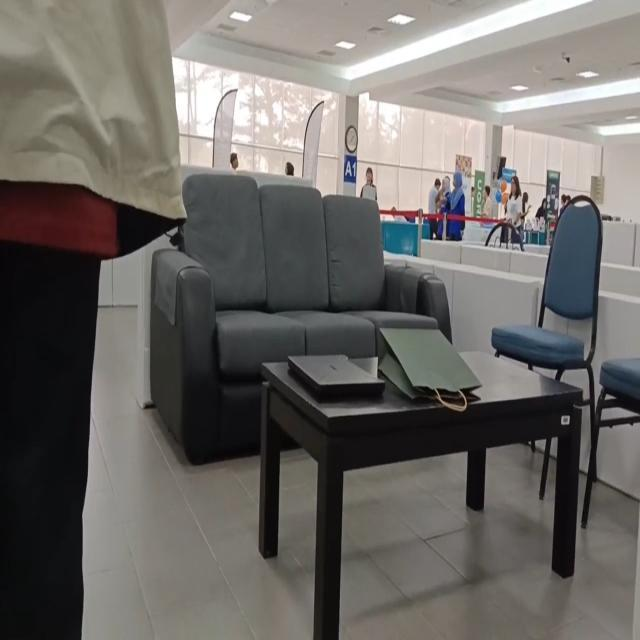sandalye: (181, 174, 307, 376), (262, 185, 377, 358), (322, 196, 438, 327)
